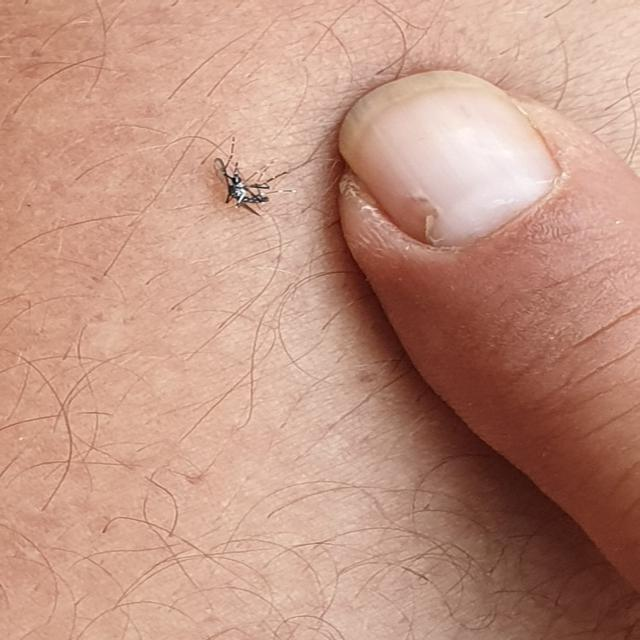albopictus: (183, 131, 306, 222)
